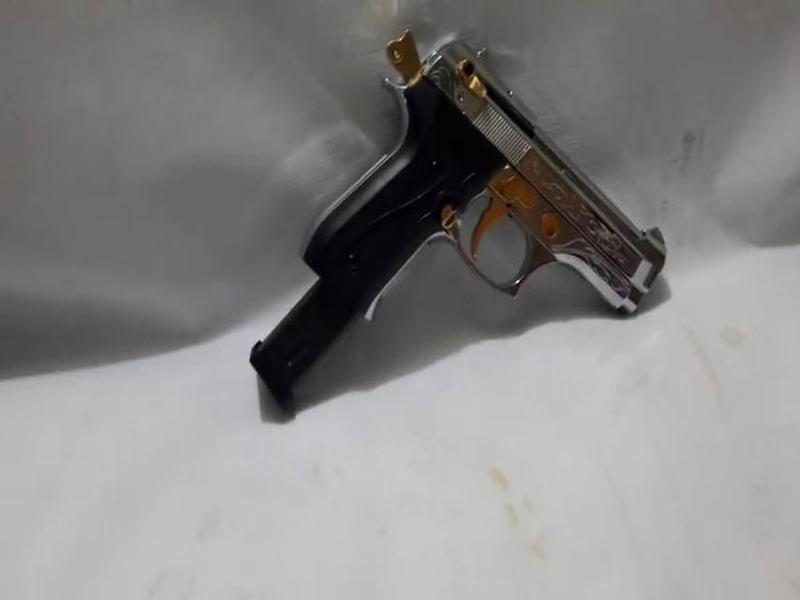Pistola: (286, 36, 675, 330)
